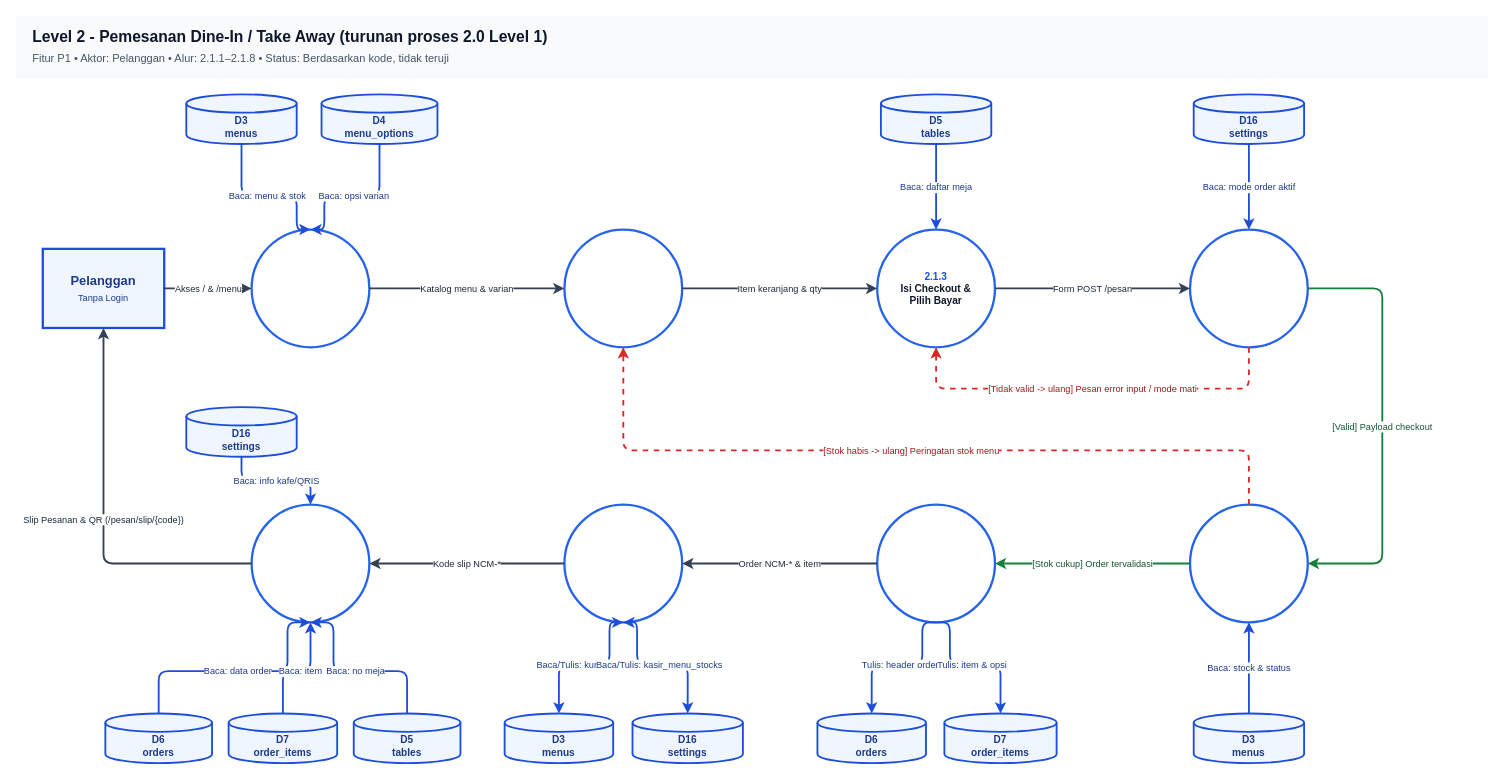
Image size: 1503x779. Some labels were removed from this diagram. Here are the shapes that lost their labels. From the top down, the centre of each, then its label:
At (x=310, y=288): "2.1.1 Muat Menu & Opsi Varian".
At (x=623, y=288): "2.1.2 Pilih Menu & Isi Keranjang".
At (x=1248, y=288): "2.1.4 Validasi Mode & Input Order".
At (x=310, y=563): "2.1.8 Buat Slip & QR Pesanan".
At (x=623, y=563): "2.1.7 Potong Stok & Sinkron POS".
At (x=936, y=563): "2.1.6 Hitung Total & Simpan Order".
At (x=1248, y=563): "2.1.5 Cek Stok & Ketersediaan".
